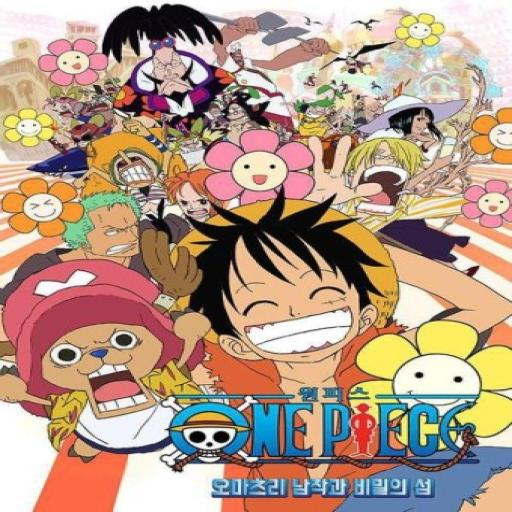Luffy: (185, 206, 380, 360)
Nami: (163, 164, 227, 221)
NicoRobin: (363, 92, 467, 138)
Usopp: (104, 147, 159, 188)
Zoro: (60, 184, 160, 254)
sanji: (333, 139, 426, 217)
